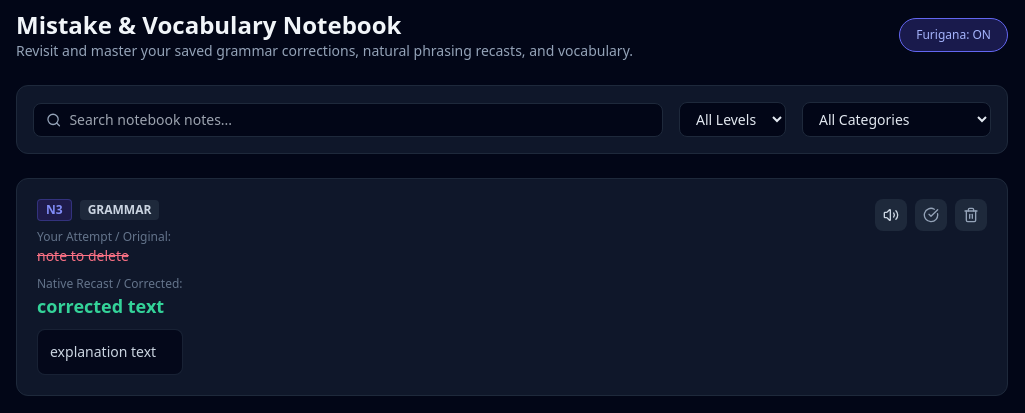
NotebookView › deletes a notebook item when delete button is clicked
Expected: the text "note to delete" is shown, x1=37 y1=246 x2=129 y2=265
Click the button titled "Delete Note".
click(971, 215)  # box x1=955 y1=199 x2=987 y2=231
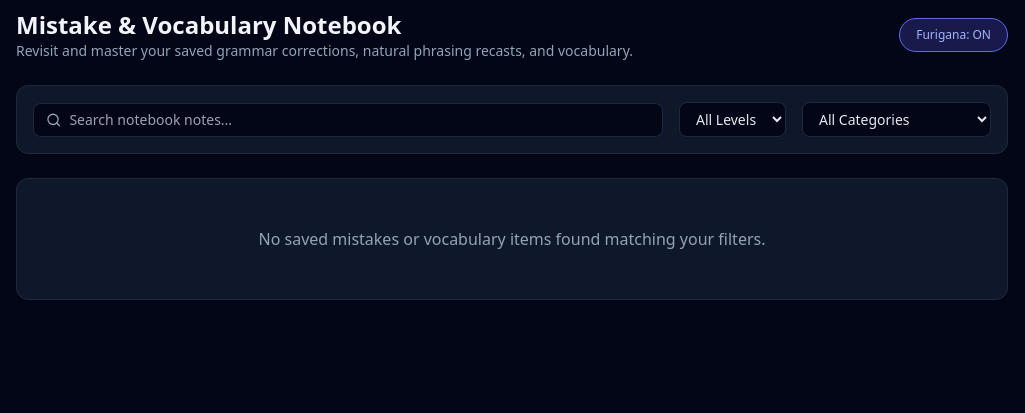
Expected: the text "note to delete" is gone
